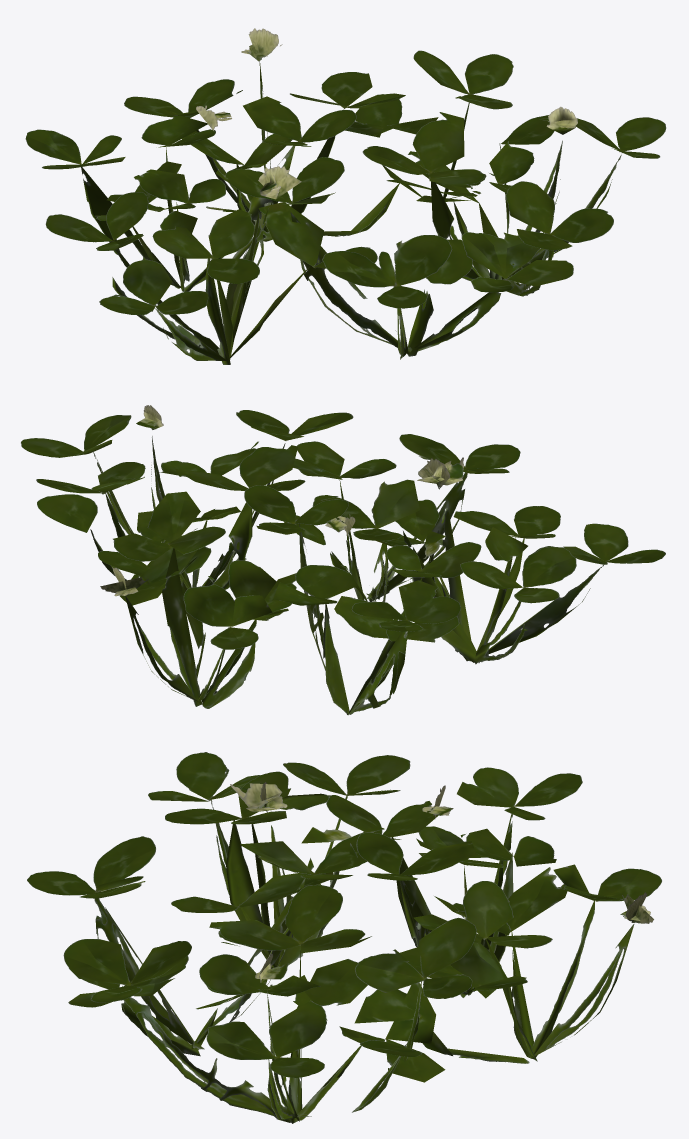
The model's file is WhiteClover.glb.
The picture shows the model from 3 angles, top to bottom: view 1: azimuth 30°, elevation 25°; view 2: azimuth 150°, elevation 25°; view 3: azimuth 270°, elevation 25°; orthographic projection. The views are drawn at different scales.
Parts seen in each view (by area): view 1: geometry_0; view 2: geometry_0; view 3: geometry_0.
Part boxes in pixels (bbox=[...]): geometry_0: bbox=[25, 28, 666, 364]; geometry_0: bbox=[21, 405, 665, 715]; geometry_0: bbox=[27, 752, 661, 1123].
Bounding box in the file's own units: 0.4887 × 0.15 × 0.4056.
1 material, 1 textured.
